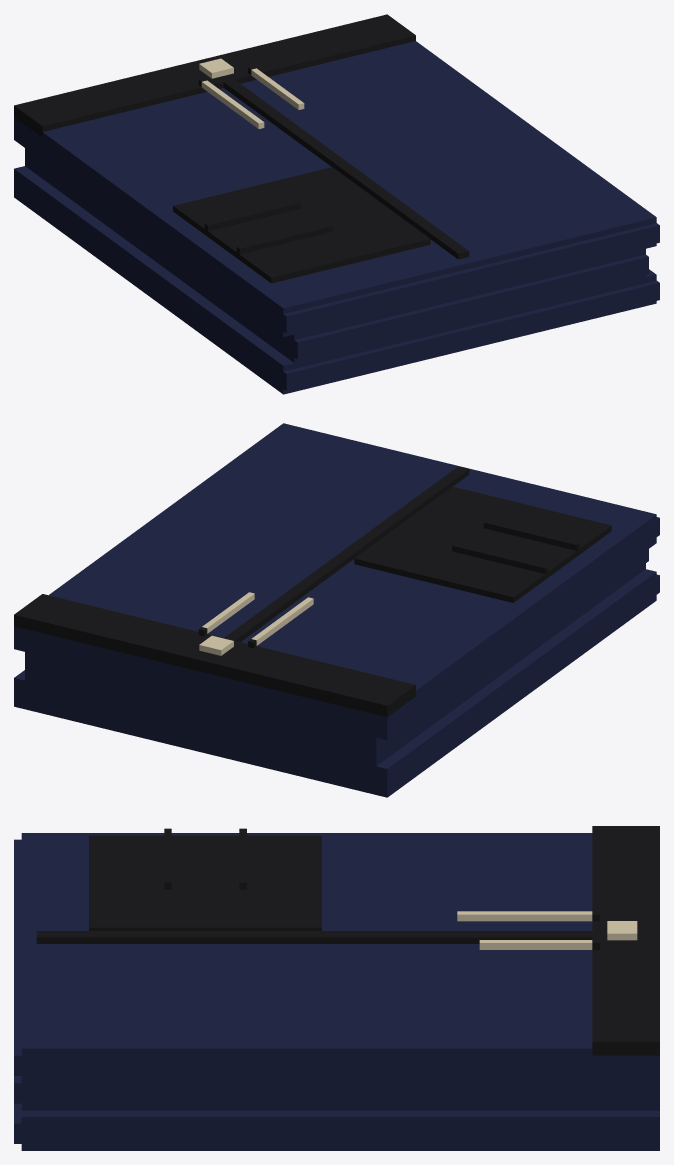
Rendered from pants_ski.glb.
The picture shows the model from 3 angles, top to bottom: view 1: azimuth 30°, elevation 25°; view 2: azimuth 150°, elevation 25°; view 3: azimuth 270°, elevation 25°; orthographic projection. The views are drawn at different scales.
Visible parts, largest first — view 1: pants_ski:compound; view 2: pants_ski:compound; view 3: pants_ski:compound.
Part boxes in pixels (bbox=[...]): pants_ski:compound: bbox=[14, 14, 659, 394]; pants_ski:compound: bbox=[14, 423, 659, 797]; pants_ski:compound: bbox=[14, 826, 659, 1150].
Size of the model in its own units: 0.272 by 0.068 by 0.344.
